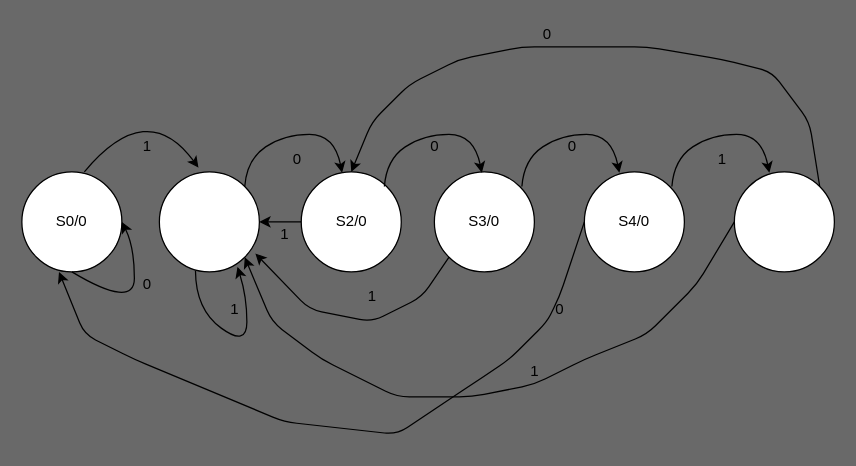
Some shapes in this 856 by 466 pixel diagram are drawn without their labels. The shapes that lost their labels are listed below. From the top down, each one's box as (x1, y1, x2, y2) in pixels, then its label:
(158, 171, 259, 272): S1/0
(733, 171, 834, 272): S5/1
